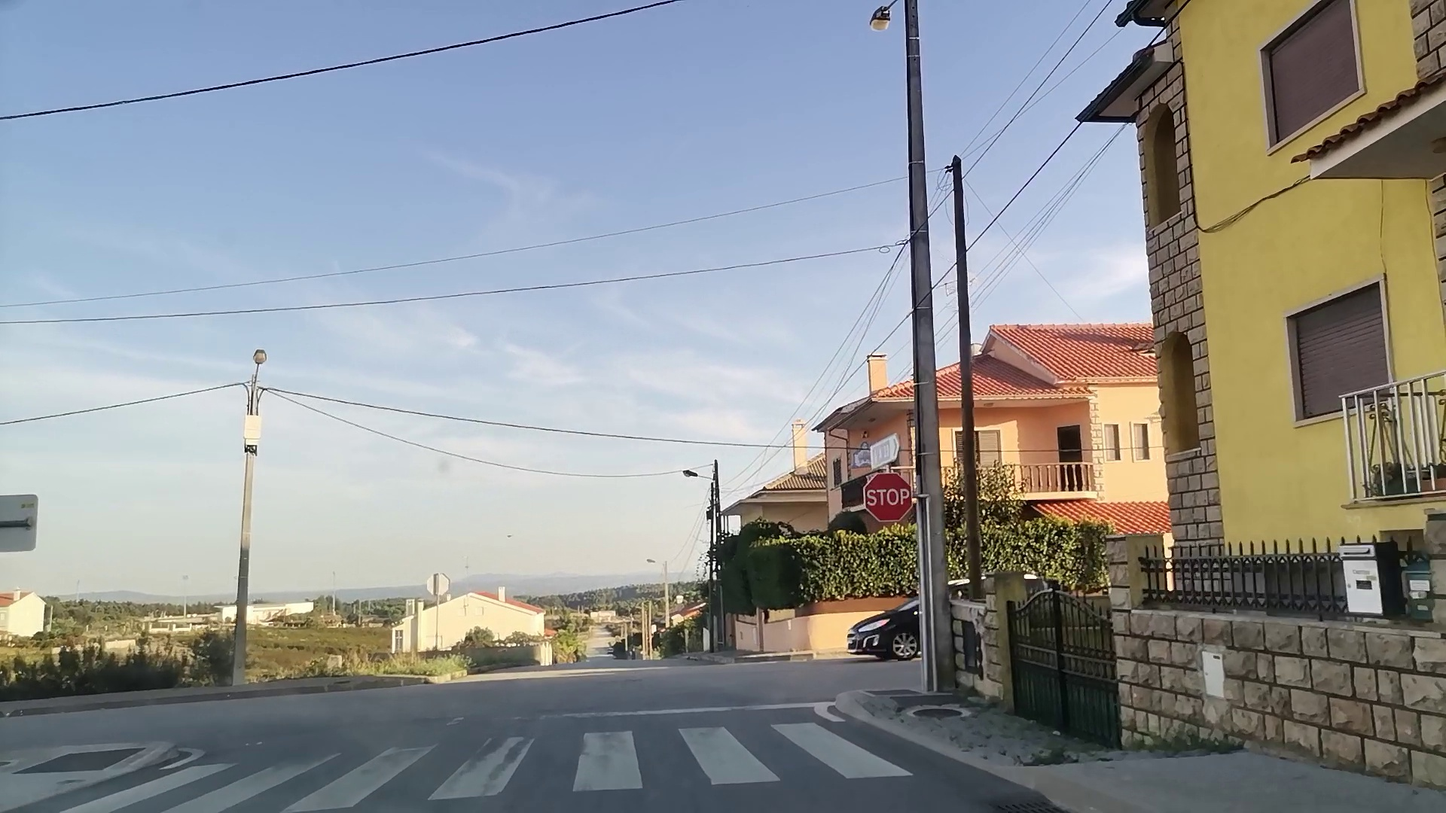Stairs: (56, 716, 913, 813)
